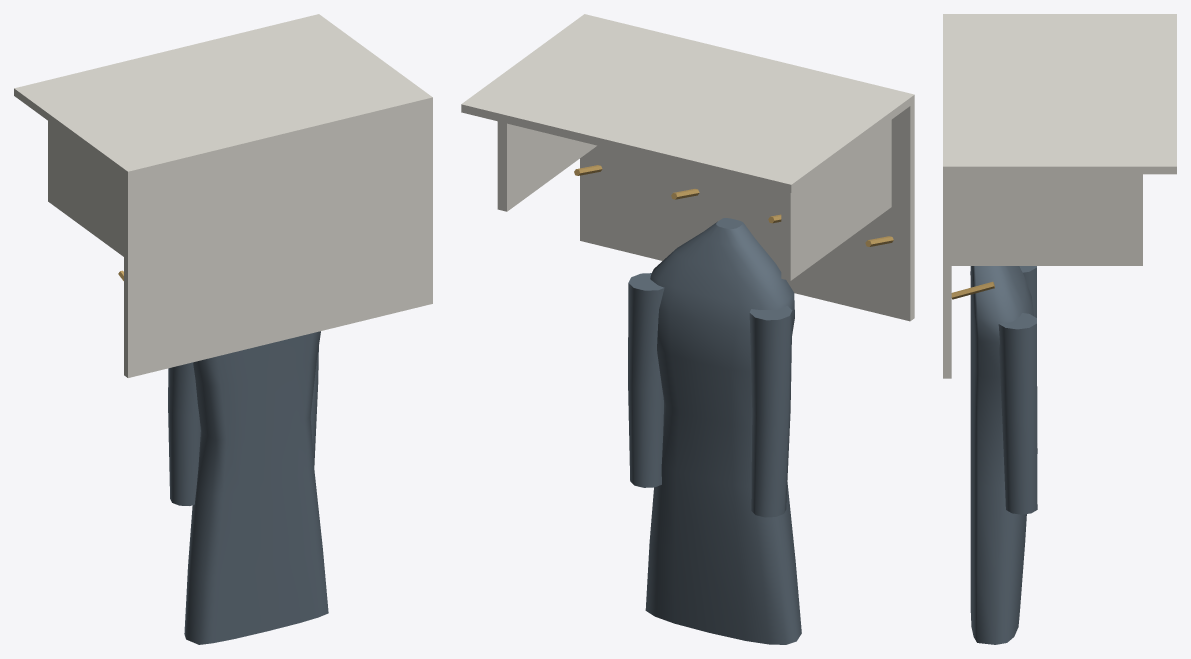
Rendered from parametric-wall-coat-rack-service-0850x0550x1950.glb.
3 views of the same model, side by side, from view 1: azimuth 30°, elevation 25°; view 2: azimuth 150°, elevation 25°; view 3: azimuth 270°, elevation 25° (orthographic). The views are drawn at different scales.
Visible parts, largest first — view 1: backboard, hat-shelf, coat:0, bracket:-1, coat-sleeve:0:-1; view 2: coat:0, hat-shelf, backboard, bracket:-1, coat-sleeve:0:-1, coat-sleeve:0:1, bracket:1; view 3: hat-shelf, bracket:1, coat:0, coat-sleeve:0:1, backboard, coat-sleeve:0:-1.
Part boxes in pixels (box(x1,y1,x2,y2)): backboard: box(124, 105, 432, 377); hat-shelf: box(14, 14, 432, 178); coat:0: box(184, 331, 328, 644); bracket:-1: box(48, 121, 123, 256); coat-sleeve:0:-1: box(168, 362, 200, 505); coat:0: box(645, 218, 801, 644); hat-shelf: box(461, 14, 914, 192); backboard: box(580, 103, 914, 321); bracket:-1: box(781, 120, 891, 280); coat-sleeve:0:-1: box(749, 306, 792, 517); coat-sleeve:0:1: box(628, 273, 664, 487); bracket:1: box(497, 121, 596, 211); hat-shelf: box(943, 14, 1176, 174); bracket:1: box(951, 174, 1142, 265); coat:0: box(970, 266, 1033, 644); coat-sleeve:0:1: box(998, 313, 1037, 514); backboard: box(943, 174, 951, 378); coat-sleeve:0:-1: box(1019, 266, 1037, 453).
Size of the model in its own units: 0.85 by 1.35 by 0.55.
